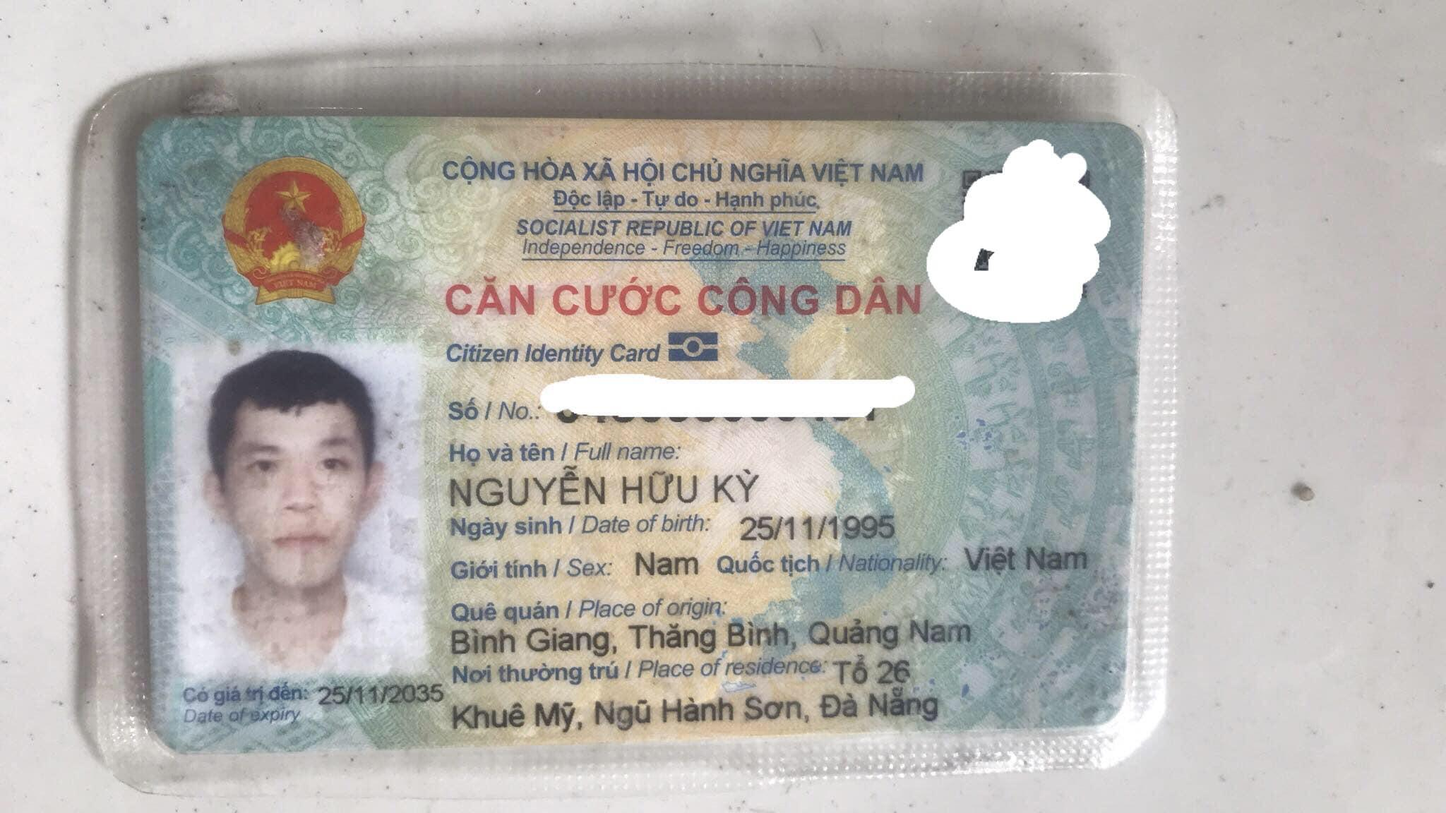bottom_left: (145, 707, 181, 763)
bottom_right: (1085, 683, 1136, 746)
image_person: (172, 347, 427, 676)
top_left: (123, 108, 179, 158)
top_right: (1099, 113, 1143, 165)
